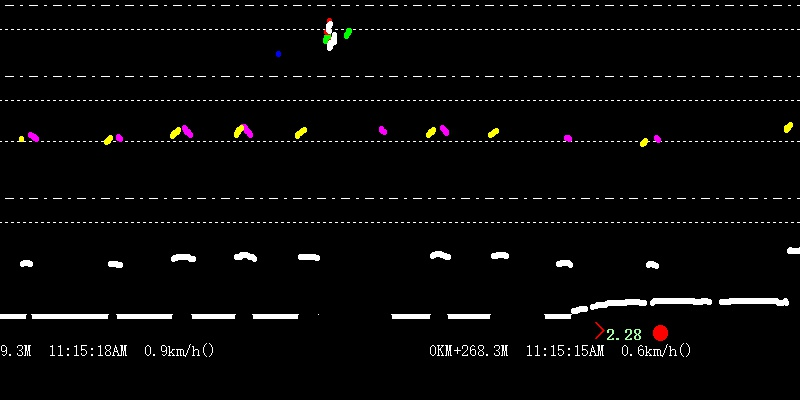circle: (652, 323, 670, 343)
y_p: (162, 115, 584, 274)
